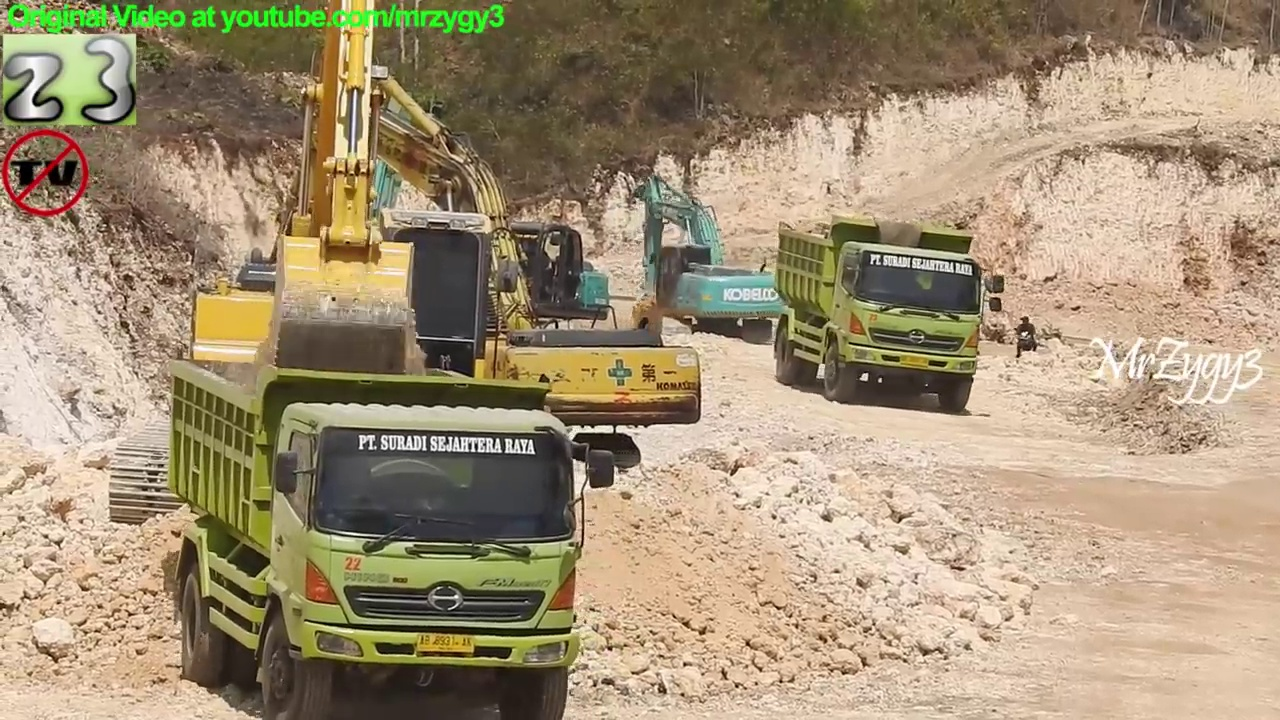excavator: (99, 1, 547, 541), (188, 48, 709, 492), (298, 82, 623, 369), (624, 171, 796, 352)
truck: (155, 344, 631, 720), (767, 210, 1009, 412)
